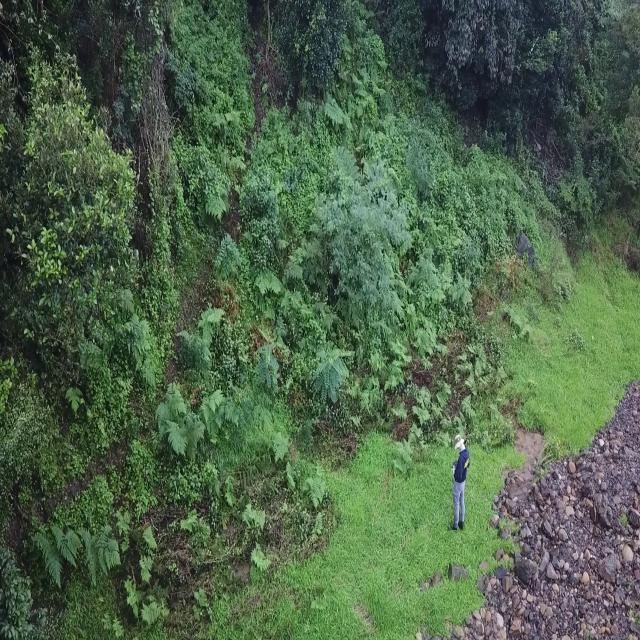Mysore-Thorn-Weed: (308, 337, 358, 406), (252, 342, 286, 392)
